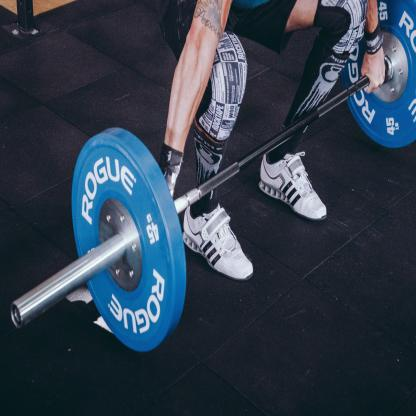barbell: (72, 134, 178, 355), (340, 1, 416, 151)
